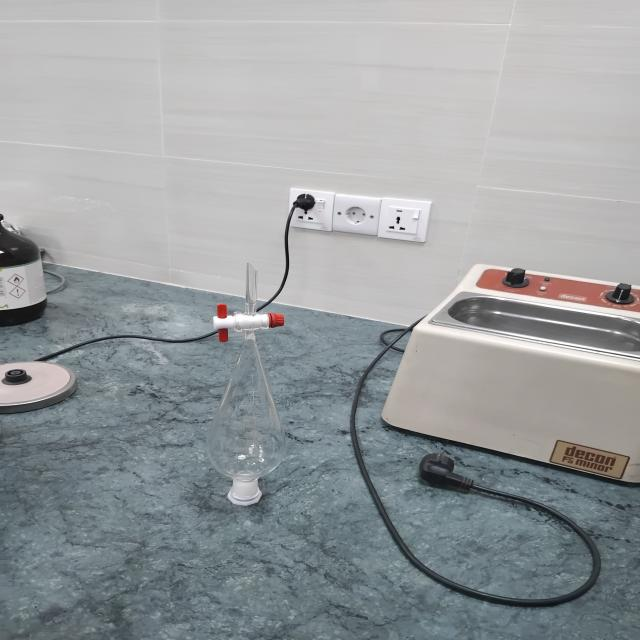Separating_Funnel: (174, 255, 324, 525)
